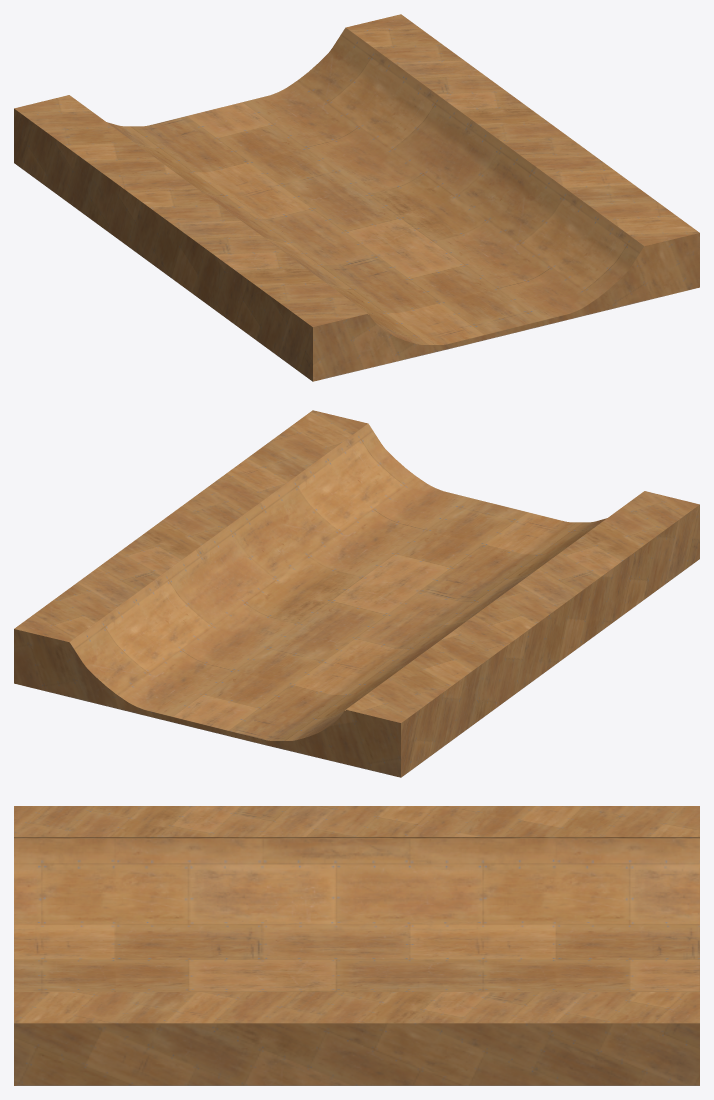
File: kicker.glb
3 views of the same model, one above another, from view 1: azimuth 30°, elevation 25°; view 2: azimuth 150°, elevation 25°; view 3: azimuth 270°, elevation 25° (orthographic). The views are drawn at different scales.
Parts seen in each view (by area): view 1: Object_2; view 2: Object_2; view 3: Object_2.
Part boxes in pixels (<box>): Object_2: <box>14,14,699,381</box>; Object_2: <box>14,410,699,777</box>; Object_2: <box>14,806,699,1085</box>.
Bounding box in the file's own units: 25.97 × 3.54 × 34.72.
1 material, 1 textured.
